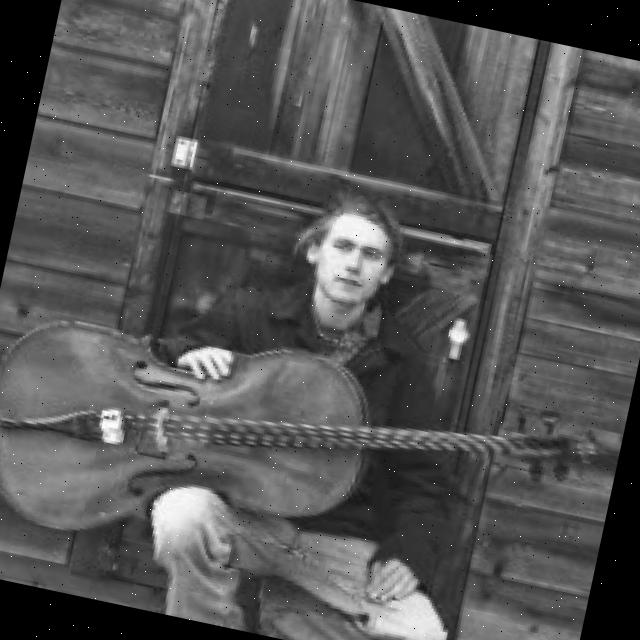cello: (0, 276, 614, 638)
